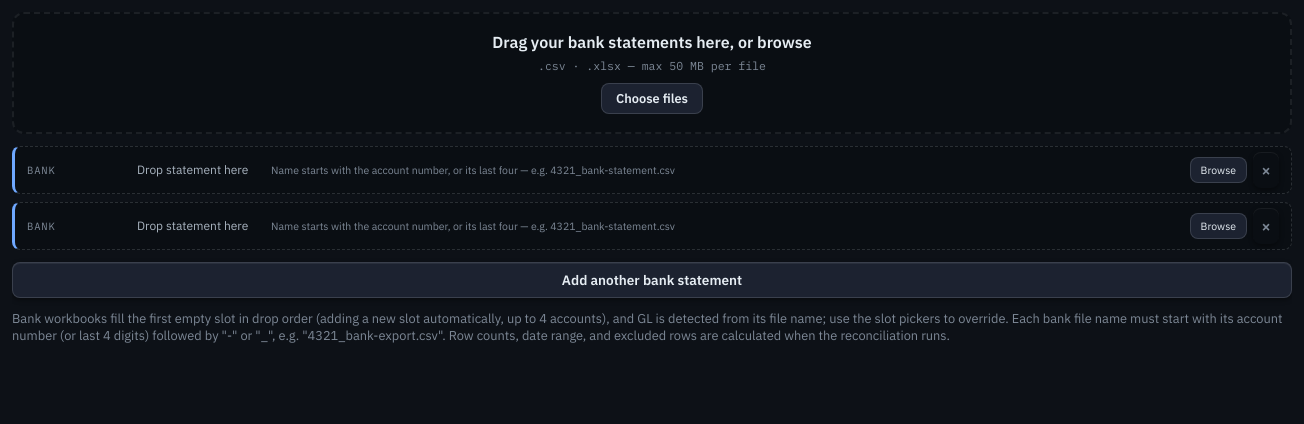
Scenario: SourceDropZone (bank panel) › "Add another bank statement" grows a new slot up to the max
Click the button "Add another bank statement" at (652, 280), box left=12, top=262, right=1292, bottom=298
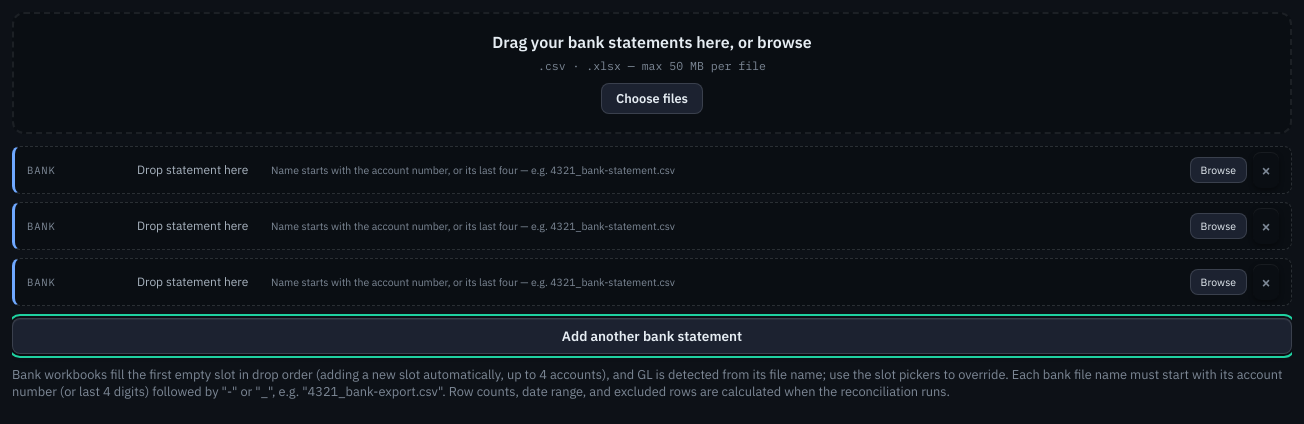
Click the button "Add another bank statement" at (652, 336), box left=12, top=318, right=1292, bottom=354
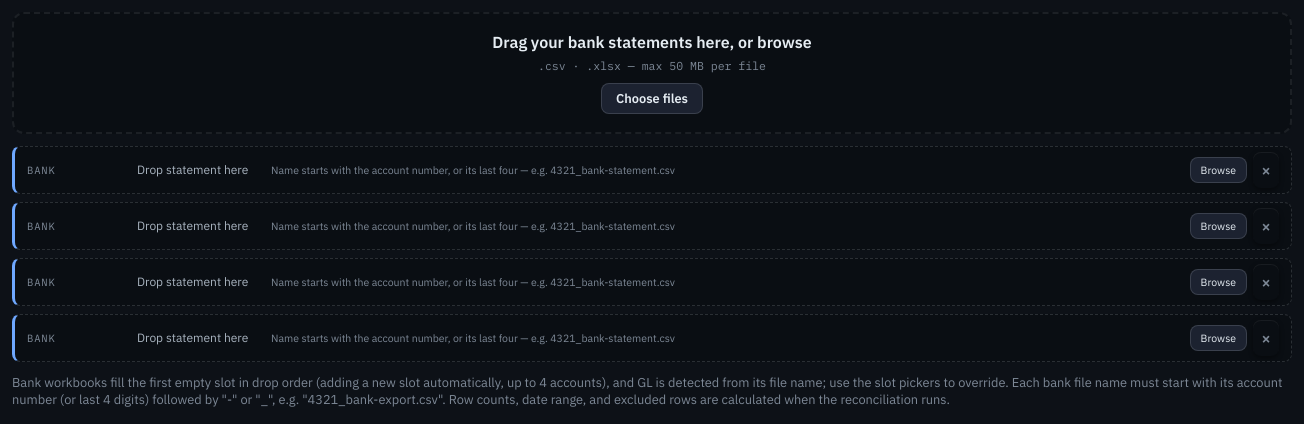
Expected: the file field named "Bank workbook (Account 4)" is shown, left=12, top=314, right=14, bottom=316
Expected: the button "Add another bank statement" is gone
